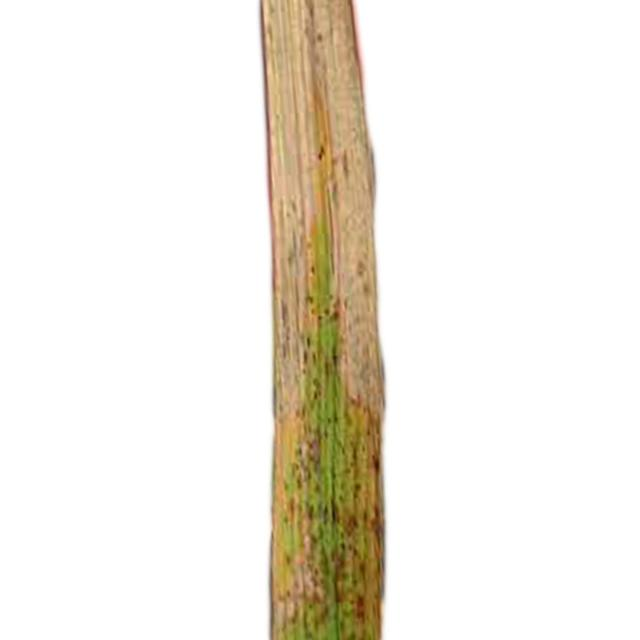Leaf scald: (189, 3, 576, 640)
